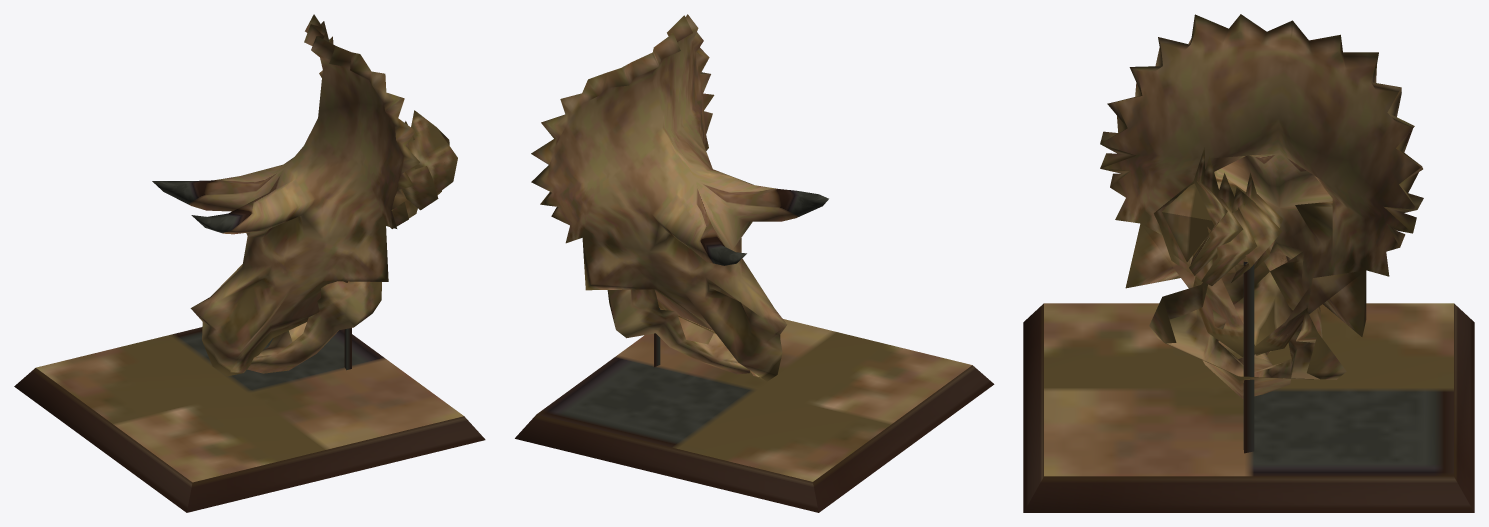
The model's file is int_din_tri_a.dae.
The picture shows the model from 3 angles, left to right: view 1: azimuth 30°, elevation 25°; view 2: azimuth 150°, elevation 25°; view 3: azimuth 270°, elevation 25°; orthographic projection. The views are drawn at different scales.
Visible parts, largest first — view 1: int_din_tri_a; view 2: int_din_tri_a; view 3: int_din_tri_a.
Boxes of the visible parts, <box> form: int_din_tri_a: <box>14,14,485,512</box>; int_din_tri_a: <box>515,14,994,512</box>; int_din_tri_a: <box>1023,14,1474,512</box>.
Bounding box in the file's own units: 65.83 × 66.04 × 58.65.
Materials: 1 (1 with a texture image).
